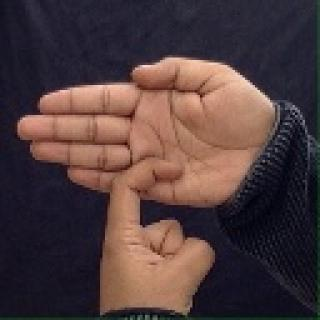R: (11, 49, 283, 297)
